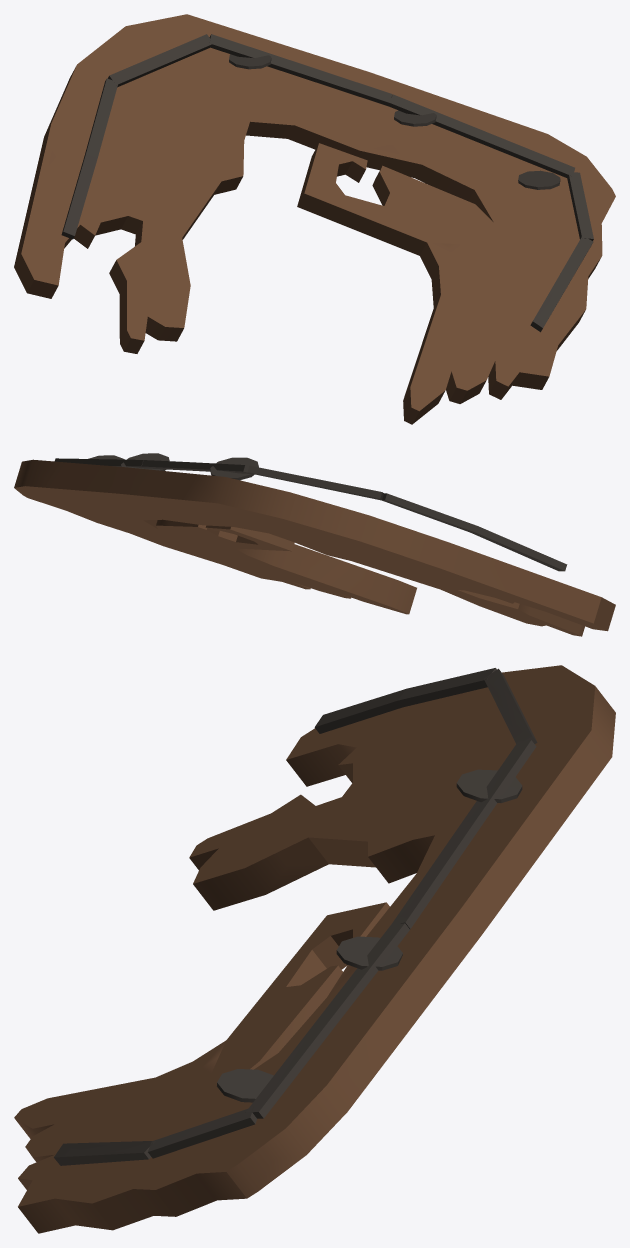
Rendered from crash-site-spaceship-wreck-small-4.glb.
3 renders of one model, top to bottom at view 1: azimuth 30°, elevation 25°; view 2: azimuth 150°, elevation 25°; view 3: azimuth 270°, elevation 25°, orthographic. The views are drawn at different scales.
Parts seen in each view (by area): view 1: body; view 2: body; view 3: body.
Part boxes in pixels (left/top/right/bottom): body: left=14, top=14, right=615, bottom=424; body: left=14, top=453, right=615, bottom=636; body: left=14, top=665, right=615, bottom=1233.
Bounding box in the file's own units: 2.03 × 0.967 × 1.33.
